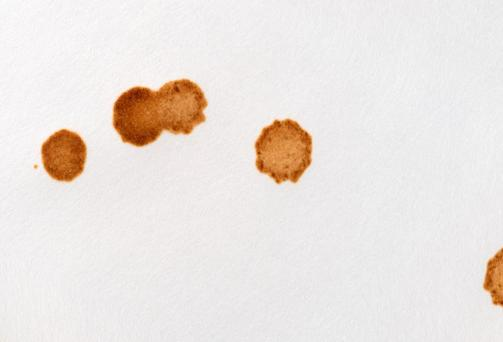stain: (109, 76, 211, 149), (252, 116, 315, 187), (36, 129, 92, 187), (480, 244, 503, 309)
